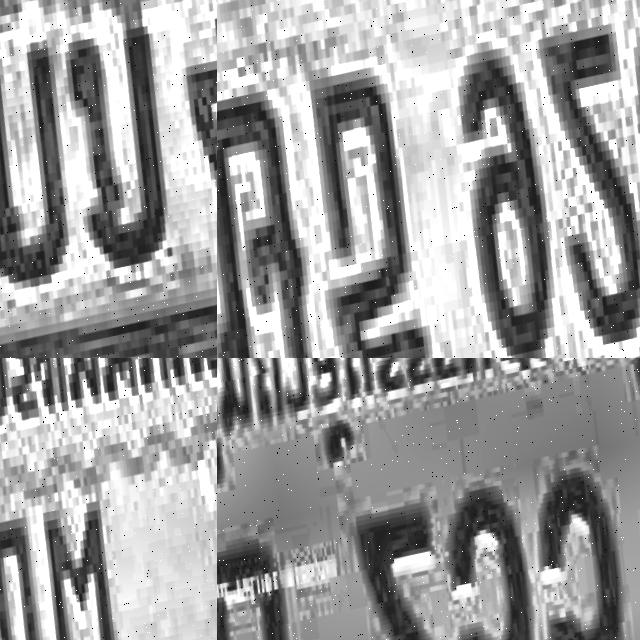license-plate: (217, 0, 640, 358), (217, 358, 640, 640), (0, 0, 217, 358), (0, 358, 217, 640)
